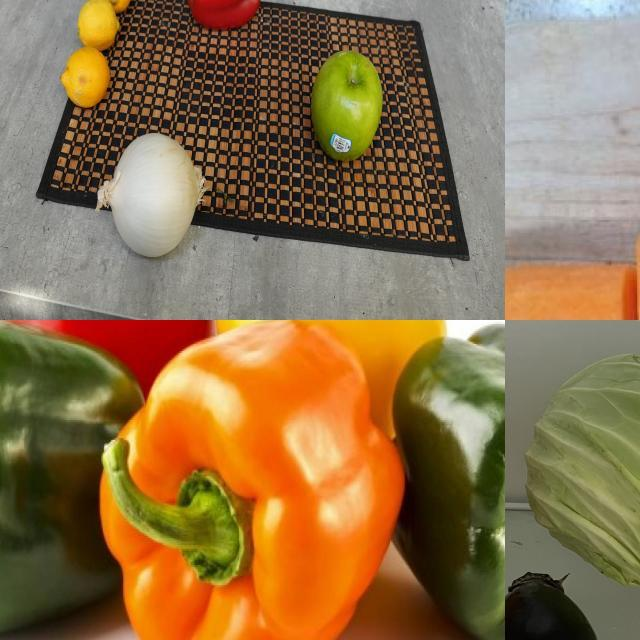bell_pepper: (100, 321, 409, 640), (1, 321, 142, 640), (220, 321, 452, 449), (419, 321, 506, 640), (1, 321, 217, 381), (185, 1, 262, 30)
cabbage: (522, 346, 640, 610)
eggplant: (506, 568, 606, 640)
onion: (95, 125, 207, 263)
